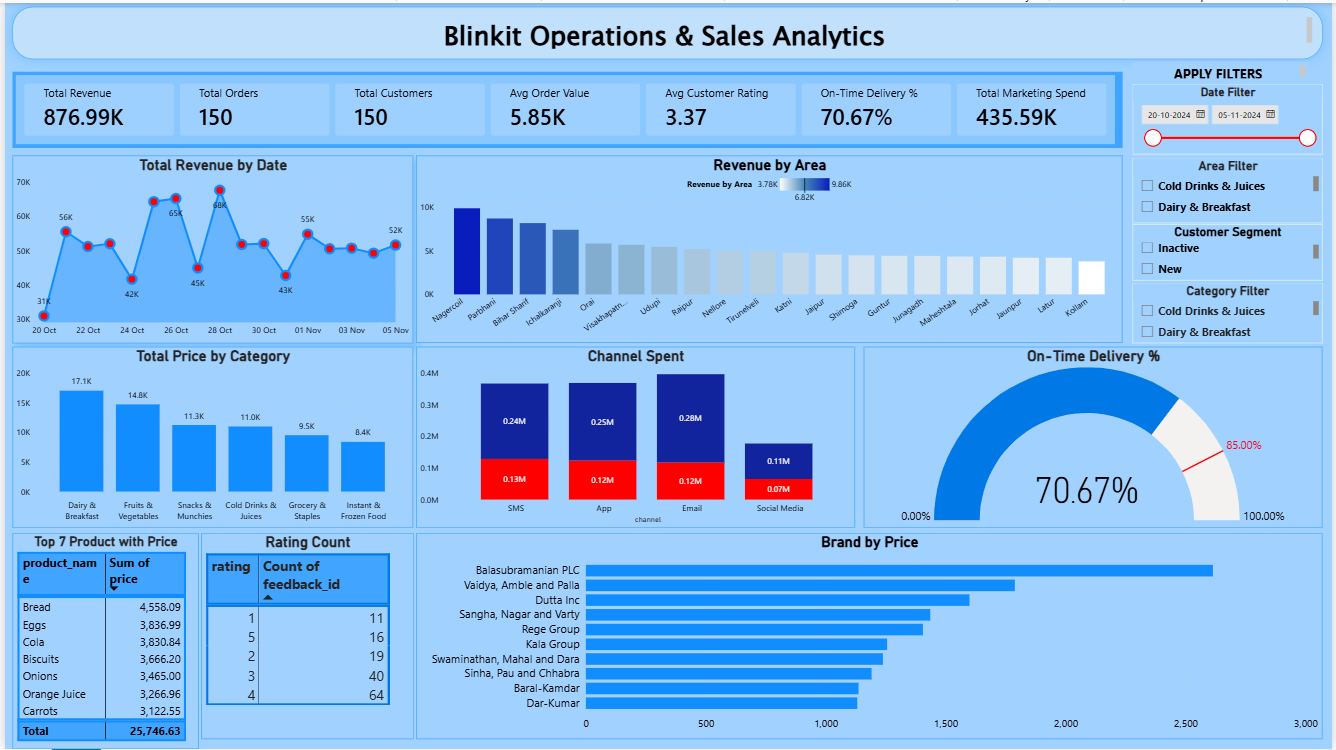

This screenshot's page, from the dashboard's own definition file:
{"tool":"powerbi","page":{"name":"Page 1","canvas":[1920,1080],"ordinal":0},"visuals":[{"type":"slicer","title":"Date Filter","fields":{"Values":["Marketing.date"]},"box":[1632.3,117.6,275.1,101.3],"z":0},{"type":"slicer","title":"Category Filter","fields":{"Values":["Products.category"]},"box":[1632.3,405.4,275.1,86.9],"z":1000},{"type":"slicer","title":"Area Filter","fields":{"Values":["Products.category"]},"box":[1632.3,224.4,275.1,94.1],"z":2000},{"type":"slicer","title":"Customer Segment","fields":{"Values":["Customer.customer_segment"]},"box":[1632.3,320.3,275.1,81.4],"z":3000},{"type":"lineChart","title":"Total Revenue by Date","fields":{"Y":["Marketing.Total Revenue"],"Category":["Marketing.date"]},"box":[10,220,580,272],"z":4000},{"type":"columnChart","title":"Total Price by Category","fields":{"Category":["Products.category"],"Y":["Sum(Products.price)"]},"box":[10,498,580,262],"z":5000},{"type":"columnChart","title":"Revenue by Area","fields":{"Category":["Customer.area"],"Y":["Products.Revenue by Area"]},"box":[595.4,220.8,1022.5,271.4],"z":6000},{"type":"tableEx","title":"Top 7 Product with Price","fields":{"Values":["Products.product_name","Sum(Products.price)"]},"box":[10.9,767.3,269.6,313.1],"z":7000},{"type":"tableEx","title":"Rating Count","fields":{"Values":["Customer Feedback.rating","CountNonNull(Customer Feedback.feedback_id)"]},"box":[284.1,767.3,307.6,298.6],"z":8000},{"type":"columnChart","title":"Channel Spent","fields":{"Category":["Marketing.channel"],"Y":["Sum(Marketing.spend)","Sum(Marketing.revenue_generated)"]},"box":[595.4,497.7,635.2,262.4],"z":9000},{"type":"gauge","fields":{"Y":["Delivery Performance.On-Time Delivery %"]},"box":[1243.2,497.7,664.1,262.4],"z":10000},{"type":"clusteredBarChart","title":"Brand by Price","fields":{"Category":["Products.brand"],"Y":["Sum(Order items.unit_price)"]},"box":[596,768,1312,298],"z":11000},{"type":"textbox","box":[10.9,5.4,1896.5,76],"z":12000},{"type":"cardVisual","fields":{"Data":["Marketing.Total Revenue","Orders.Total Orders","Customer.Total Customers","Orders.Avg Order Value","Customer Feedback.Avg Customer Rating","Delivery Performance.On-Time Delivery %","Marketing.Total Marketing Spend"]},"box":[10.9,99.5,1607,110.4],"z":13000},{"type":"textbox","box":[1632.3,85.1,255.2,29],"z":13001}]}

Visuals, with their boxes in screenshot pixels (x1, y1, x2, y2), scaled from the page's 1920x1080 canvas onto the 1336x750 screenshot:
"Date Filter" slicer: [1136, 82, 1327, 152]
"Category Filter" slicer: [1136, 282, 1327, 342]
"Area Filter" slicer: [1136, 156, 1327, 221]
"Customer Segment" slicer: [1136, 222, 1327, 279]
"Total Revenue by Date" lineChart: [7, 153, 411, 342]
"Total Price by Category" columnChart: [7, 346, 411, 528]
"Revenue by Area" columnChart: [414, 153, 1126, 342]
"Top 7 Product with Price" tableEx: [8, 533, 195, 749]
"Rating Count" tableEx: [198, 533, 412, 740]
"Channel Spent" columnChart: [414, 346, 856, 528]
gauge - Delivery Performance.On-Time Delivery %: [865, 346, 1327, 528]
"Brand by Price" clusteredBarChart: [415, 533, 1328, 740]
textbox: [8, 4, 1327, 57]
cardVisual - Marketing.Total Revenue x Orders.Total Orders: [8, 69, 1126, 146]
textbox: [1136, 59, 1313, 79]
